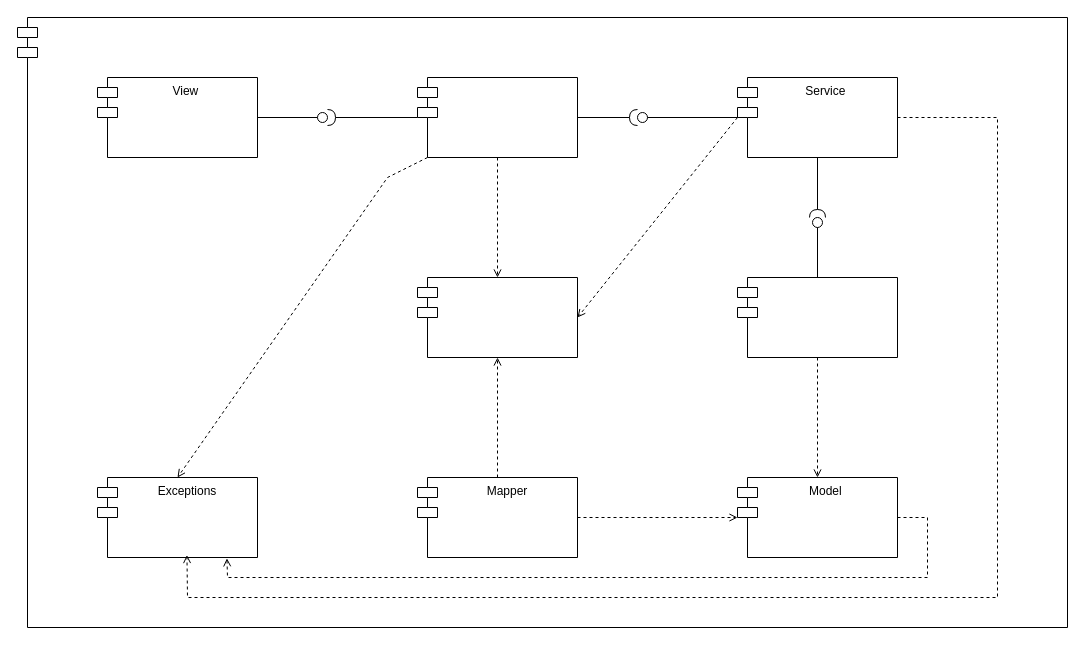
Some shapes in this 1085 by 645 pixel diagram are drawn without their labels. Here are the shapes that lost their labels. From the top down, the box of each, then its label:
(416, 76, 578, 158): Controller
(416, 276, 578, 358): DTO
(736, 276, 898, 358): Repository
